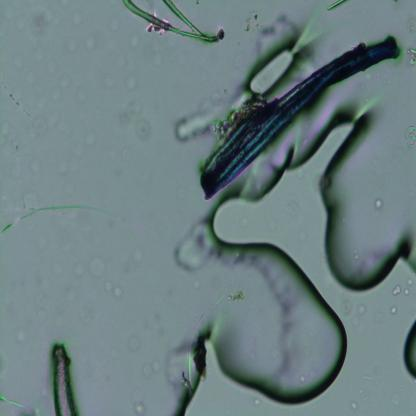Air bubble: (173, 92, 416, 415), (248, 45, 294, 96), (401, 313, 416, 381)
Background material: (231, 252, 298, 384), (172, 96, 228, 144), (174, 221, 217, 276), (20, 112, 82, 150), (50, 340, 80, 416), (5, 46, 45, 102), (245, 10, 297, 42), (121, 100, 150, 141), (23, 2, 61, 33), (42, 73, 70, 103), (61, 33, 80, 58), (114, 67, 136, 88), (22, 191, 41, 214), (90, 253, 106, 280), (121, 332, 139, 356), (401, 123, 416, 150), (79, 32, 99, 52), (104, 280, 123, 298), (142, 361, 162, 376), (404, 43, 416, 68), (372, 195, 385, 211), (133, 400, 146, 414), (355, 301, 366, 316), (342, 300, 352, 316), (392, 284, 401, 298), (389, 305, 398, 316), (349, 401, 358, 410), (404, 288, 410, 296)
Cotton: (200, 36, 401, 200)
Glass filter fibre: (122, 0, 222, 43), (186, 311, 203, 391), (0, 394, 33, 415), (327, 0, 346, 12)
